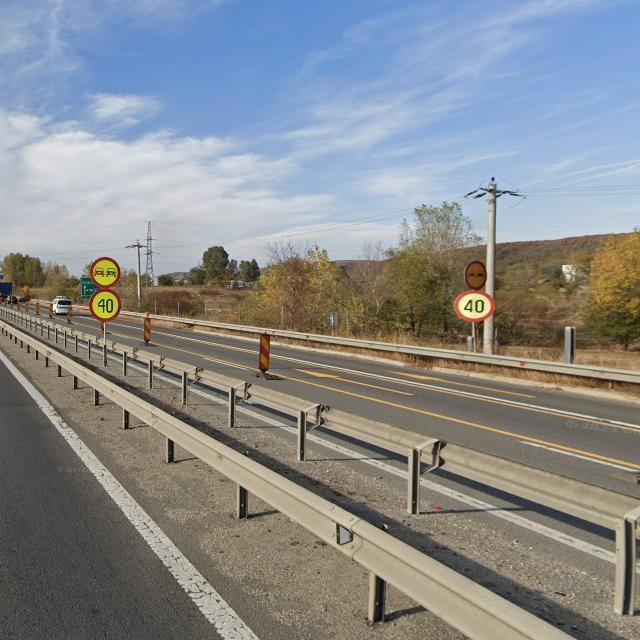forb_overtake: (89, 256, 121, 289), (465, 261, 487, 290)
forb_speed_over_40: (454, 291, 496, 321), (89, 289, 122, 322)
